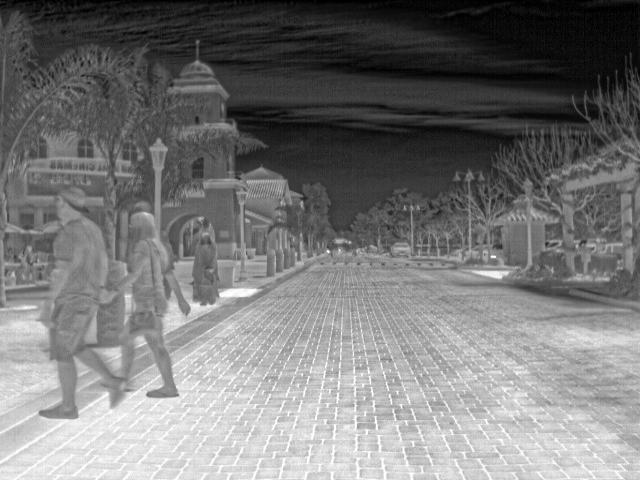car: (597, 240, 621, 256), (391, 241, 412, 258), (465, 244, 482, 256), (451, 244, 464, 258), (490, 243, 502, 256), (547, 239, 561, 250)
person: (41, 182, 112, 420), (120, 209, 178, 399), (193, 229, 220, 308), (20, 243, 35, 264)
